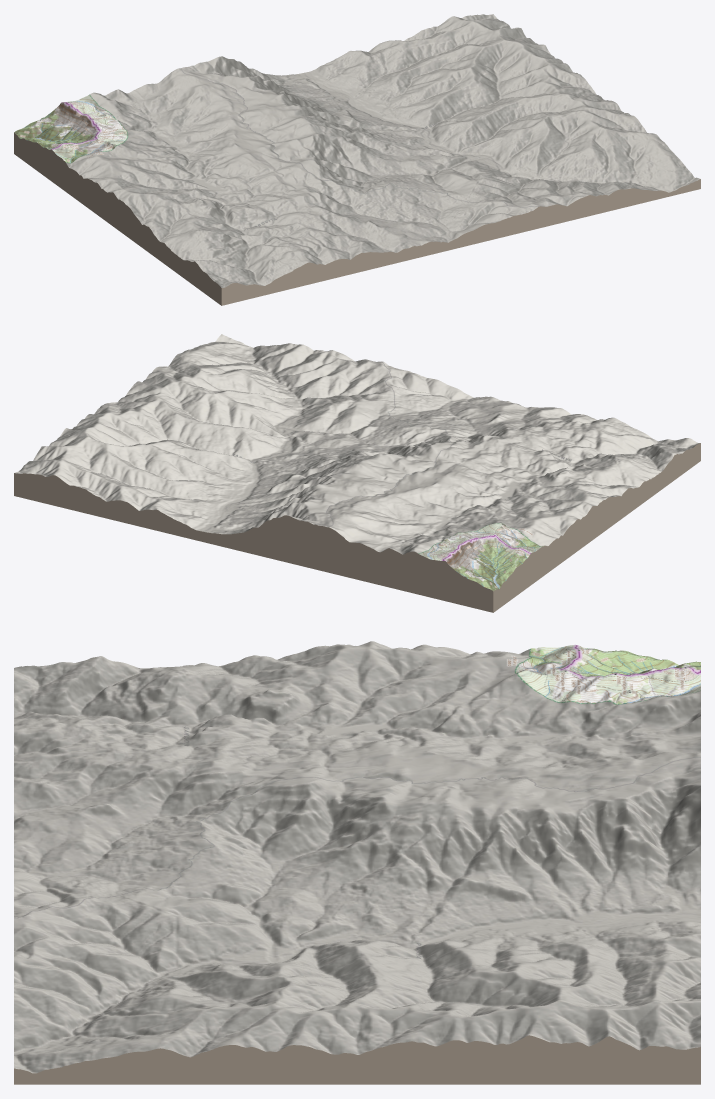
The picture shows the model from 3 angles, top to bottom: view 1: azimuth 30°, elevation 25°; view 2: azimuth 150°, elevation 25°; view 3: azimuth 270°, elevation 25°; orthographic projection. The views are drawn at different scales.
Visible parts, largest first — view 1: BV50-G4 Bucșa; view 2: BV50-G4 Bucșa; view 3: BV50-G4 Bucșa.
Part boxes in pixels (bbox=[...]): BV50-G4 Bucșa: bbox=[14, 14, 700, 305]; BV50-G4 Bucșa: bbox=[14, 334, 700, 612]; BV50-G4 Bucșa: bbox=[14, 641, 700, 1084].
Size of the model in its own units: 20000 by 1879 by 15000.
Materials: 2 (1 with a texture image).
